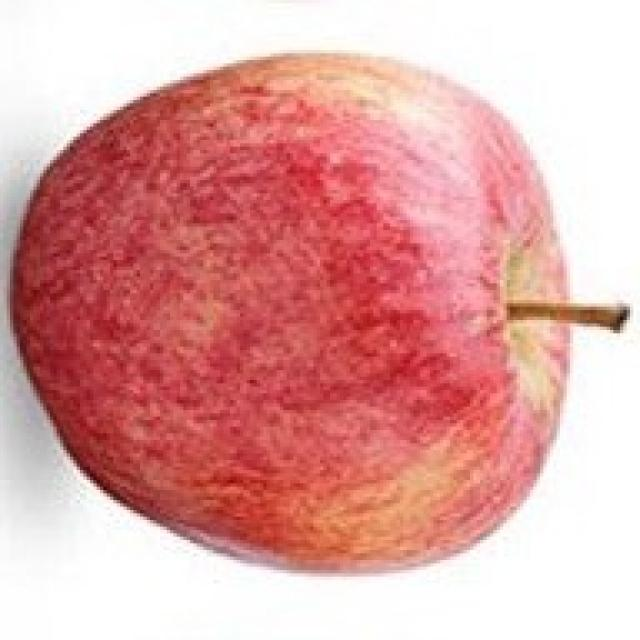75-_ripeness: (13, 52, 584, 574)
